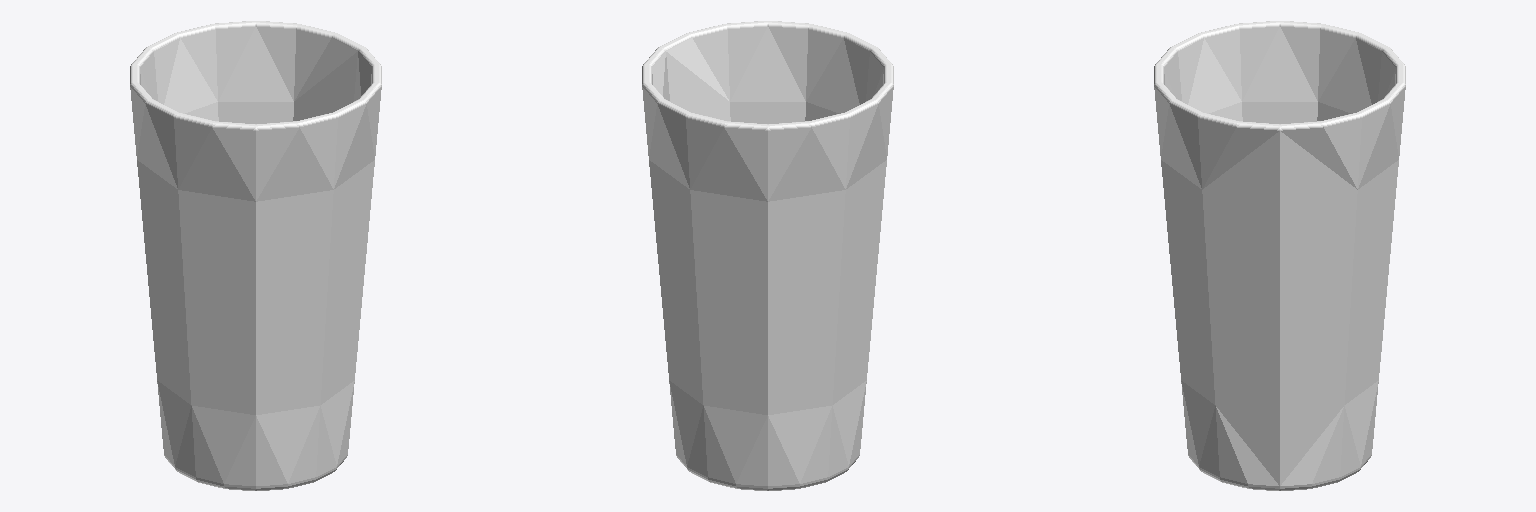
robot.urdf — cup:
<?xml version="1.0" ?>
<robot name="cup">
  <link name="baseLink">
    <contact>
    	<friction_anchor/>
    	   <lateral_friction value="1.0"/>
    </contact>
    <inertial>
      <origin rpy="0 0 0" xyz="0 0 0"/>
       <!-- mass controls penetration -->
       <mass value="1"/>
       <inertia ixx="1e-4" ixy="0" ixz="0" iyy="1e-4" iyz="0" izz="1e-4"/>
    </inertial>
    <visual>
      <origin rpy="0 0 0" xyz="0 0 0"/>
      <geometry>
        <mesh filename="cup.obj" scale="0.001 0.001 0.001"/>
      </geometry>
       <material name="white">
        <color rgba="1 1 1 0.5"/>
      </material>
    </visual>
    <collision>
      <origin rpy="0 0 0" xyz="0 0 0"/>
      <geometry>
        <mesh filename="cup-vhacd.obj" scale="0.001 0.001 0.001"/>
      </geometry>
    </collision>
  </link>
</robot>

--- Render facts (derived) ---
Views: 3 orthographic renders of the robot side by side, from view 1: azimuth 30°, elevation 25°; view 2: azimuth 150°, elevation 25°; view 3: azimuth 270°, elevation 25°.
Model cup with 1 links and 0 joints (none), rooted at baseLink, posed all joints at 0.
Links seen in each view (by area): view 1: baseLink; view 2: baseLink; view 3: baseLink.
Boxes of the visible links, x1,y1,x2,y2 form: baseLink: (130, 21, 381, 490); baseLink: (642, 21, 893, 490); baseLink: (1154, 21, 1405, 490).
Size in the robot's own frame: 0.0758 by 0.0747 by 0.125 metres.
1 mesh visuals loaded from 1 distinct referenced files (1 OBJ).